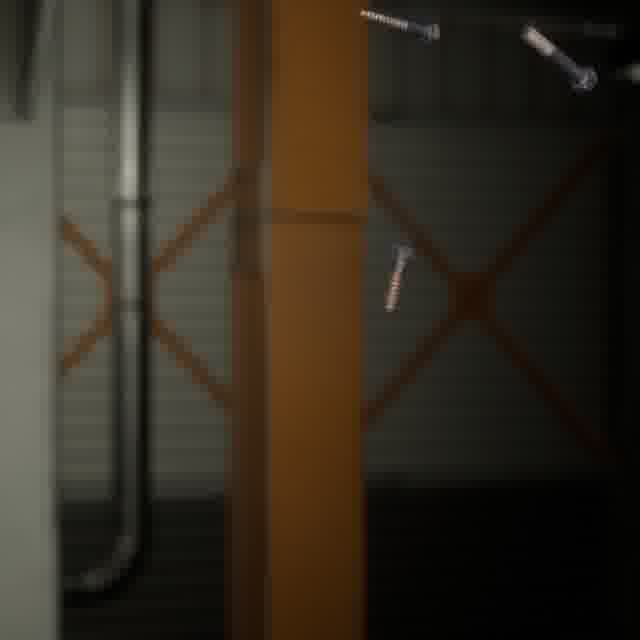bolt: (516, 21, 601, 98), (353, 6, 444, 50), (379, 240, 419, 317)
